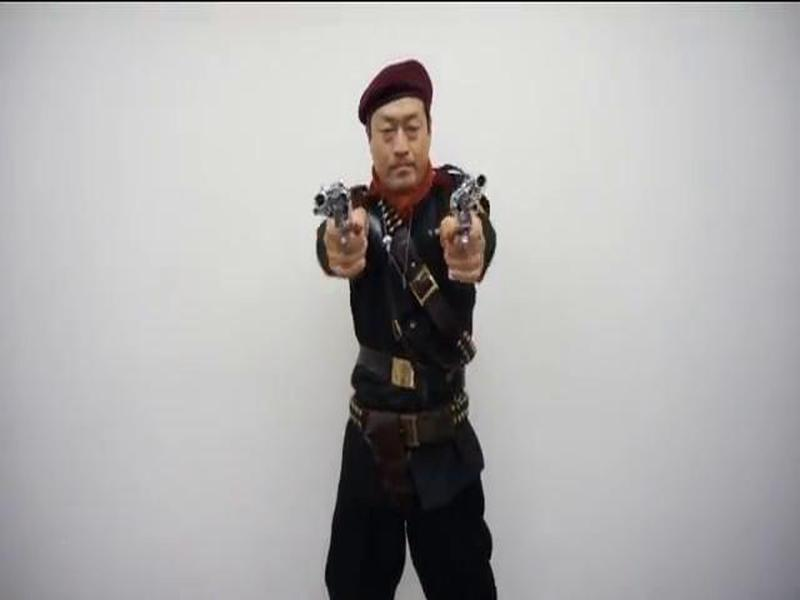Revolver: (437, 173, 501, 254), (307, 174, 358, 258)
